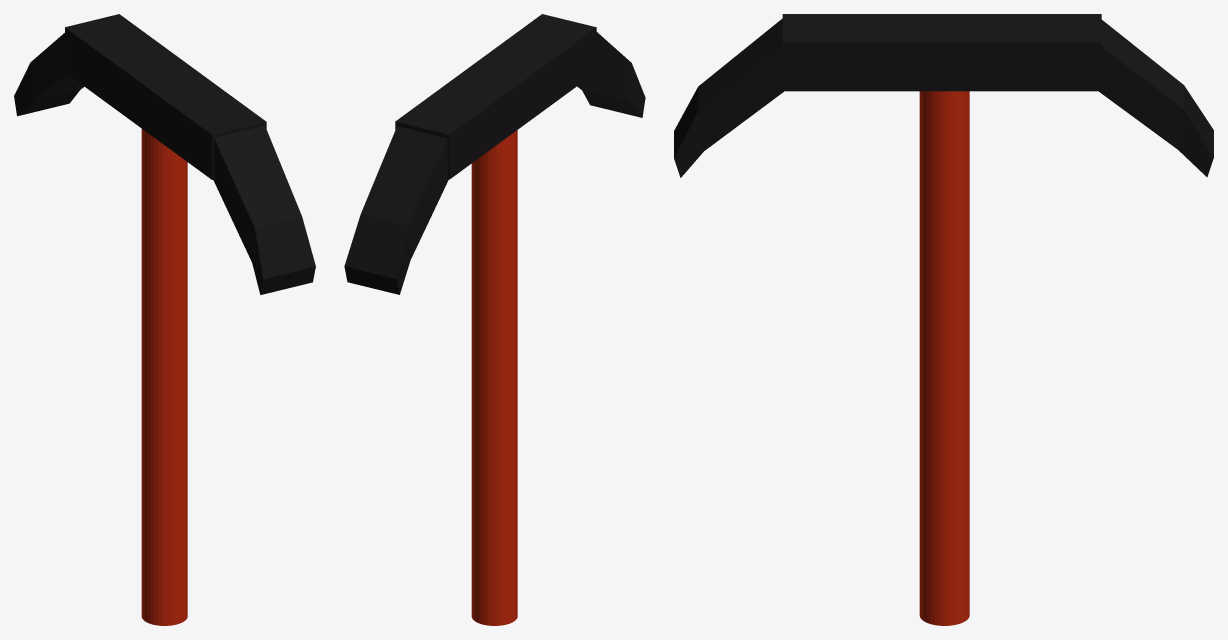
Rendered from pickaxe.obj.
The picture shows the model from 3 angles, left to right: view 1: azimuth 30°, elevation 25°; view 2: azimuth 150°, elevation 25°; view 3: azimuth 270°, elevation 25°; orthographic projection. The views are drawn at different scales.
Parts seen in each view (by area): view 1: Cylinder; view 2: Cylinder; view 3: Cylinder.
Boxes of the visible parts, left/top/right/bottom form: Cylinder: left=14, top=14, right=315, bottom=625; Cylinder: left=344, top=14, right=645, bottom=625; Cylinder: left=674, top=14, right=1213, bottom=625.
Size of the model in its own units: 0.1218 by 1.16 by 0.9664.
